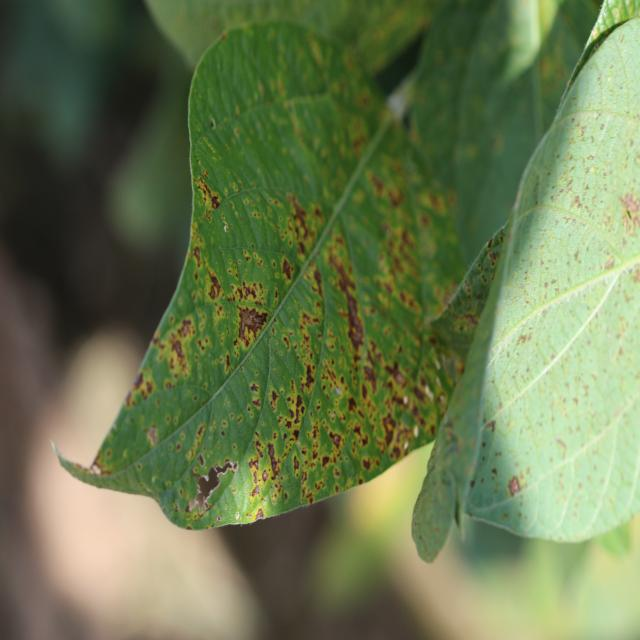Bacterial_Blight: (189, 457, 237, 513), (233, 299, 273, 352), (287, 193, 312, 244), (229, 277, 269, 308), (344, 289, 365, 348), (380, 413, 398, 448), (170, 336, 187, 369), (266, 443, 281, 478), (453, 487, 464, 532), (362, 363, 378, 393), (369, 172, 387, 198), (291, 393, 306, 424), (622, 198, 639, 224), (412, 383, 431, 405), (207, 273, 222, 300), (312, 266, 324, 299), (178, 317, 193, 339), (574, 121, 590, 140), (508, 476, 522, 497), (328, 431, 342, 450), (516, 332, 532, 347), (555, 436, 567, 456), (132, 371, 144, 390), (393, 368, 406, 385), (147, 426, 158, 446), (571, 193, 583, 209), (248, 457, 259, 473), (188, 498, 199, 514), (270, 389, 279, 408), (347, 396, 357, 413), (484, 419, 496, 433), (604, 256, 615, 271), (193, 245, 201, 265), (210, 195, 220, 210), (91, 462, 102, 475), (321, 455, 330, 468), (197, 452, 205, 466), (250, 383, 259, 395), (333, 385, 342, 396), (231, 460, 239, 471), (402, 394, 409, 406), (573, 250, 580, 262), (262, 469, 268, 482), (208, 118, 215, 129), (491, 467, 498, 478), (222, 221, 228, 231), (589, 166, 596, 174), (330, 411, 336, 420)
Soybean: (56, 21, 460, 529)
